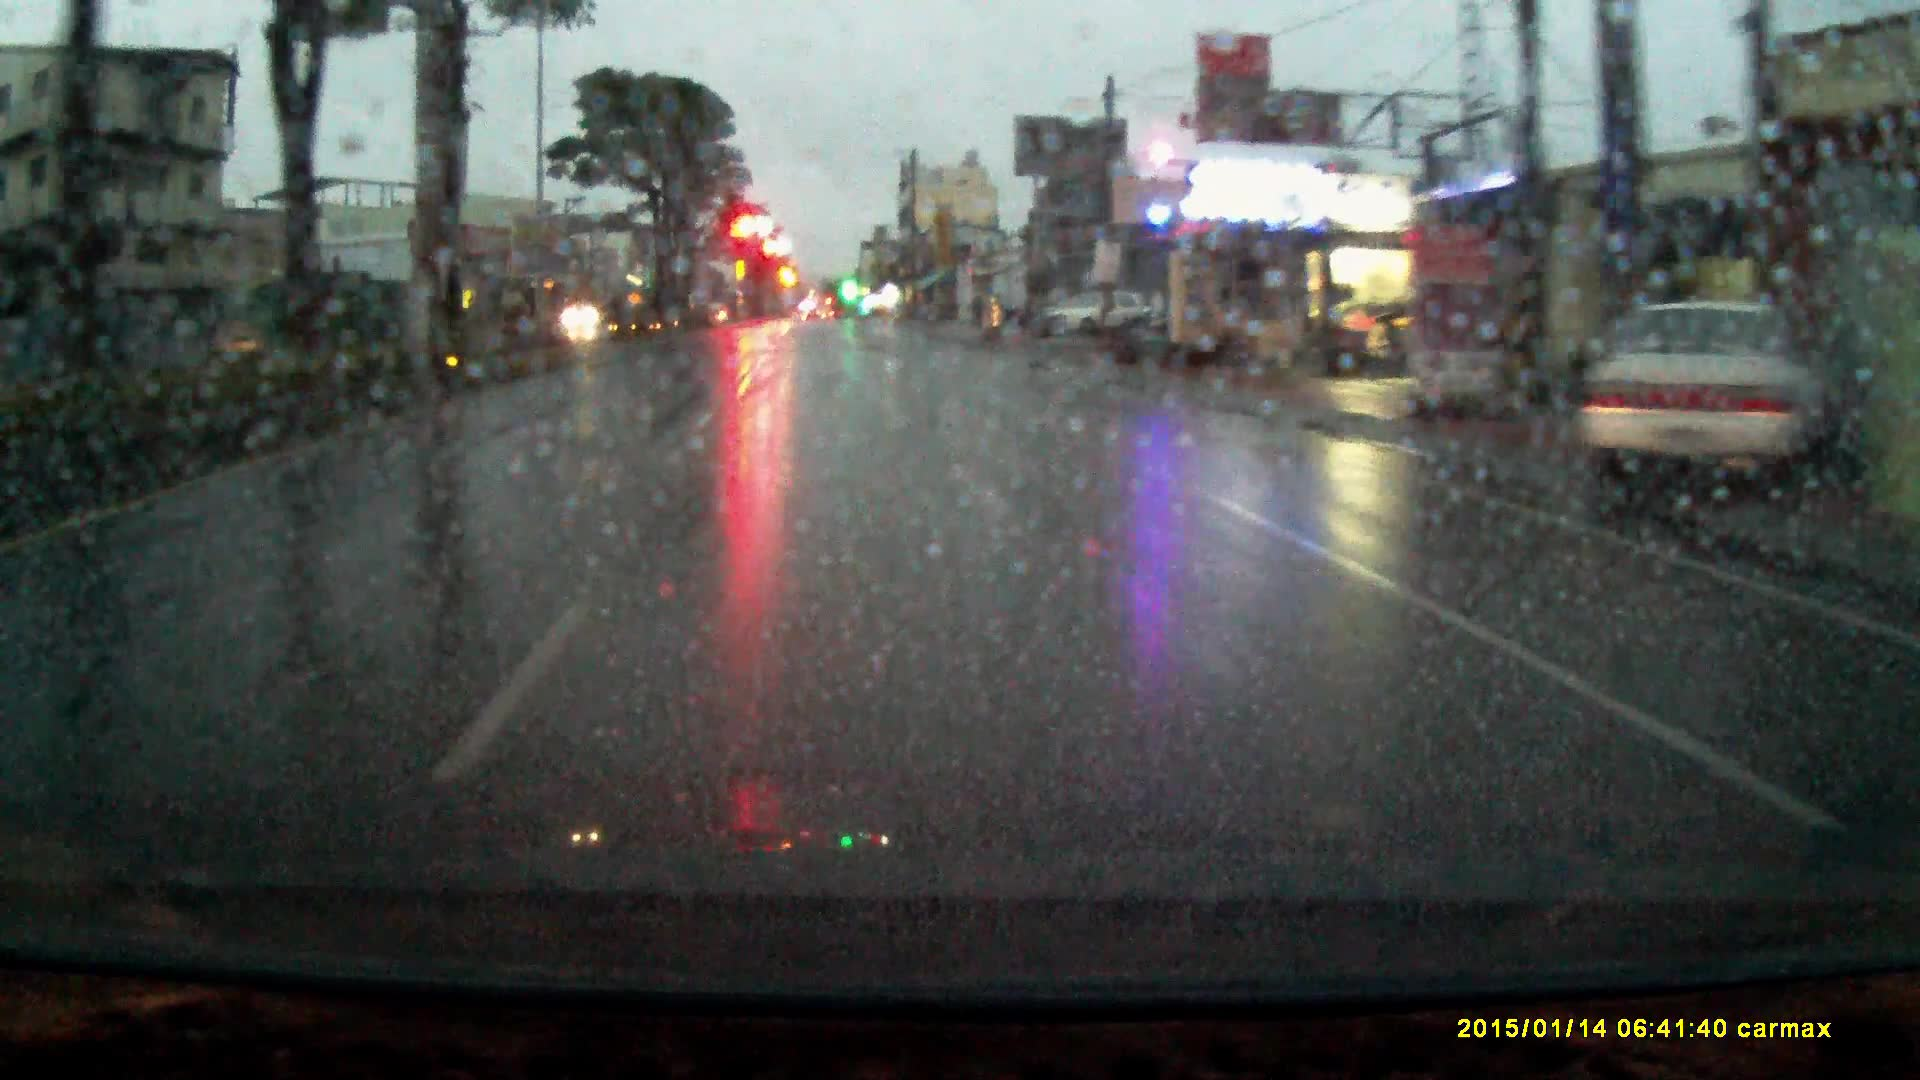vehicle: (1575, 291, 1828, 492), (1046, 286, 1150, 335), (562, 295, 611, 328)
